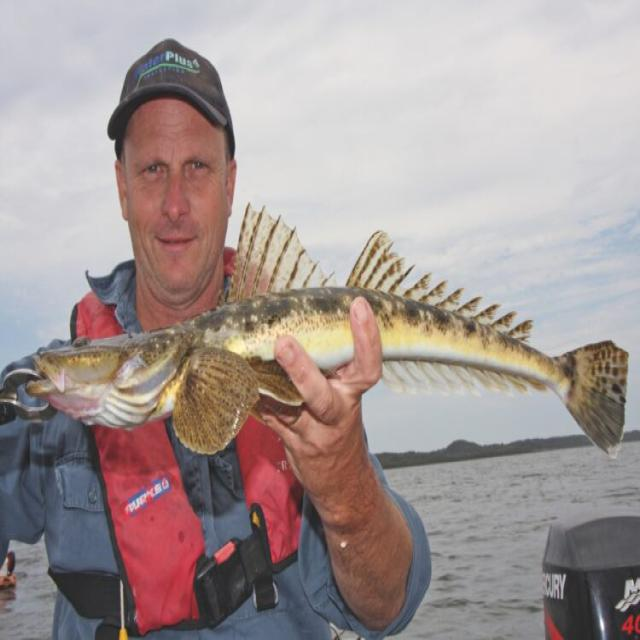Flathead: (17, 201, 633, 474)
